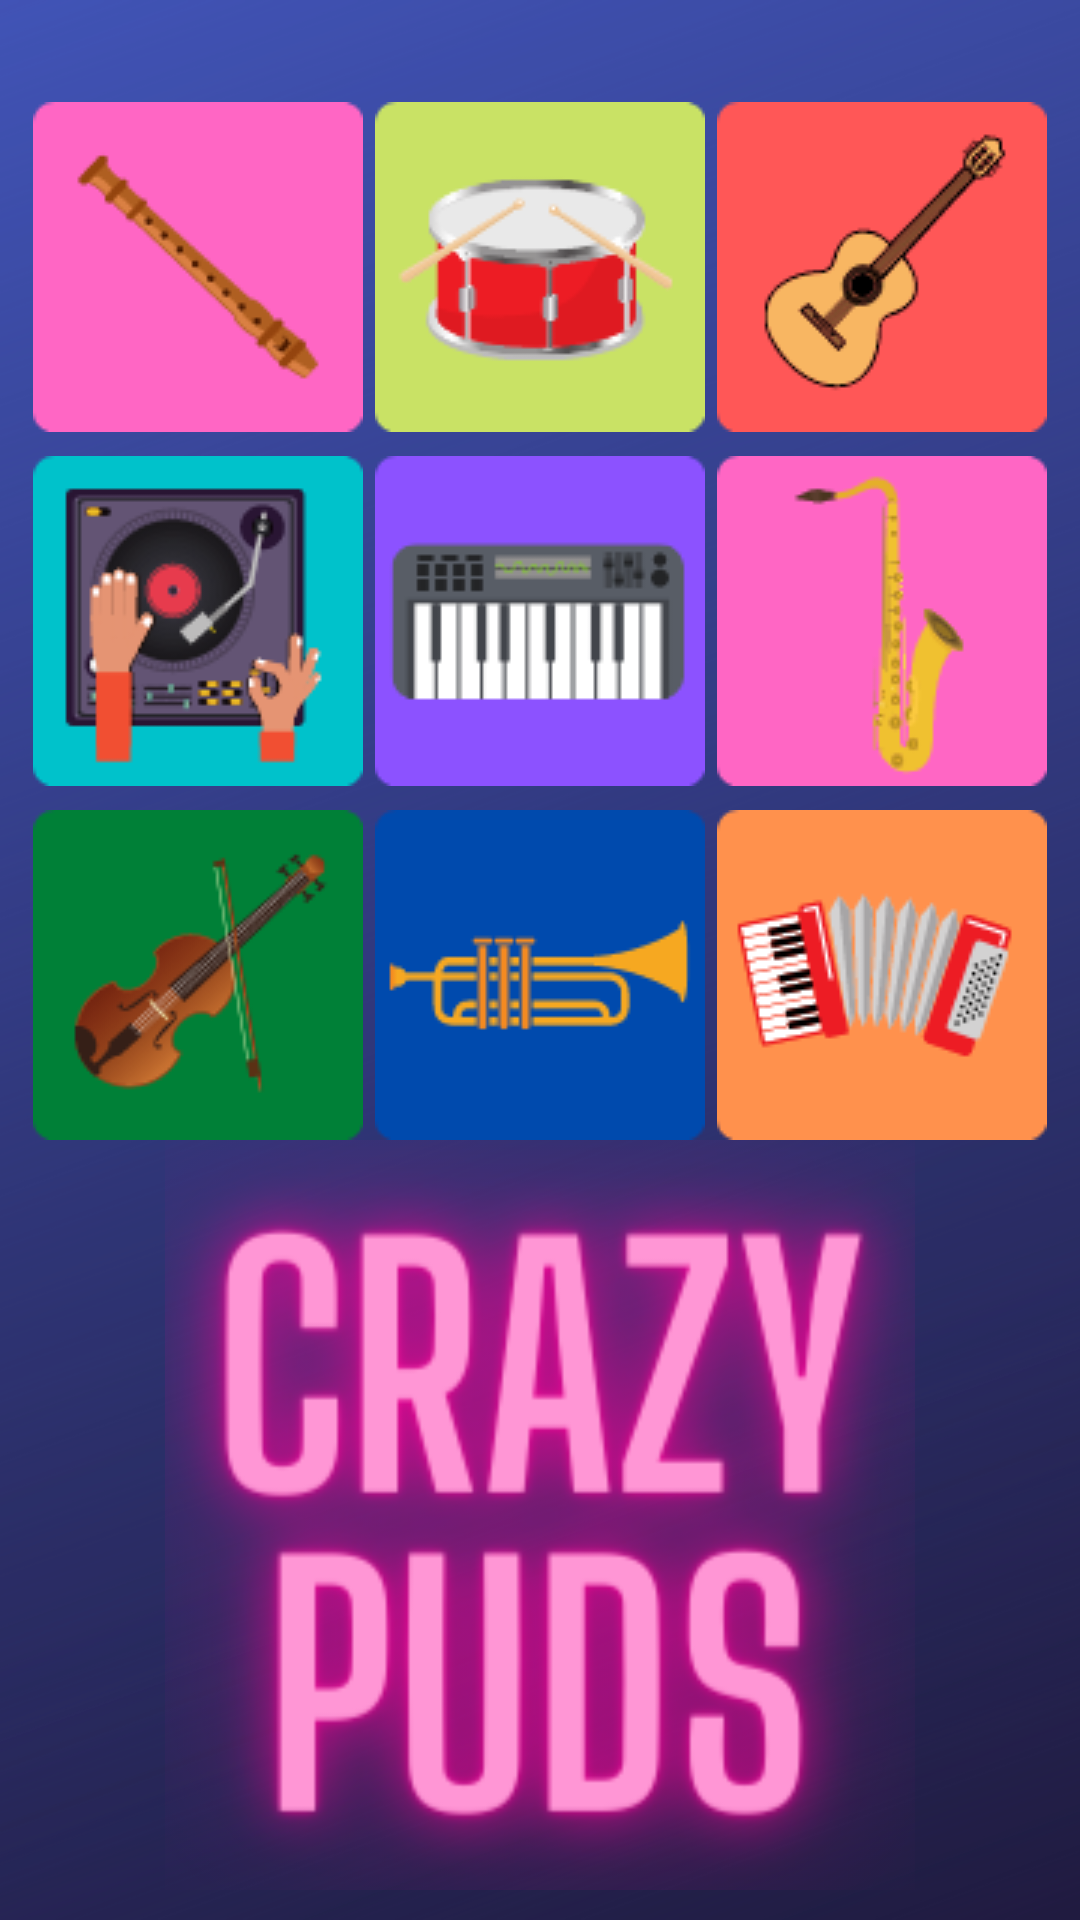

Locate icon controls on the screen. Image size 1080x1920, boxes as box=[x1, y1, x2, y2].
barabam: box=[375, 102, 705, 432]
bayan: box=[717, 810, 1047, 1140]
fleita: box=[33, 102, 363, 432]
guitar: box=[717, 102, 1047, 432]
piano: box=[375, 456, 705, 786]
saksafon: box=[717, 456, 1047, 786]
skipka: box=[33, 810, 363, 1140]
truba: box=[375, 810, 705, 1140]
